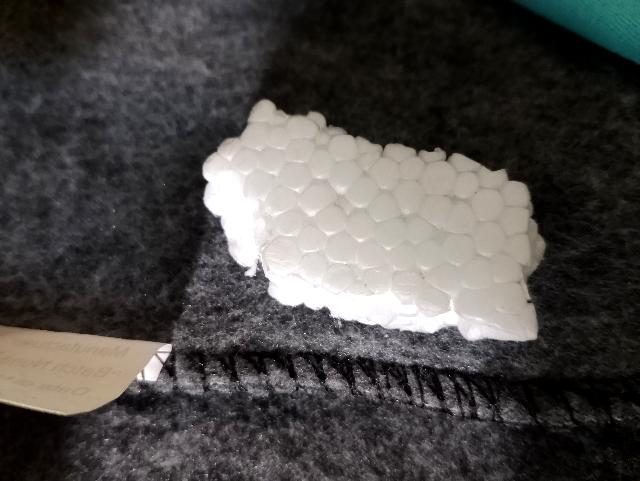cocksheet: (234, 101, 537, 337)
